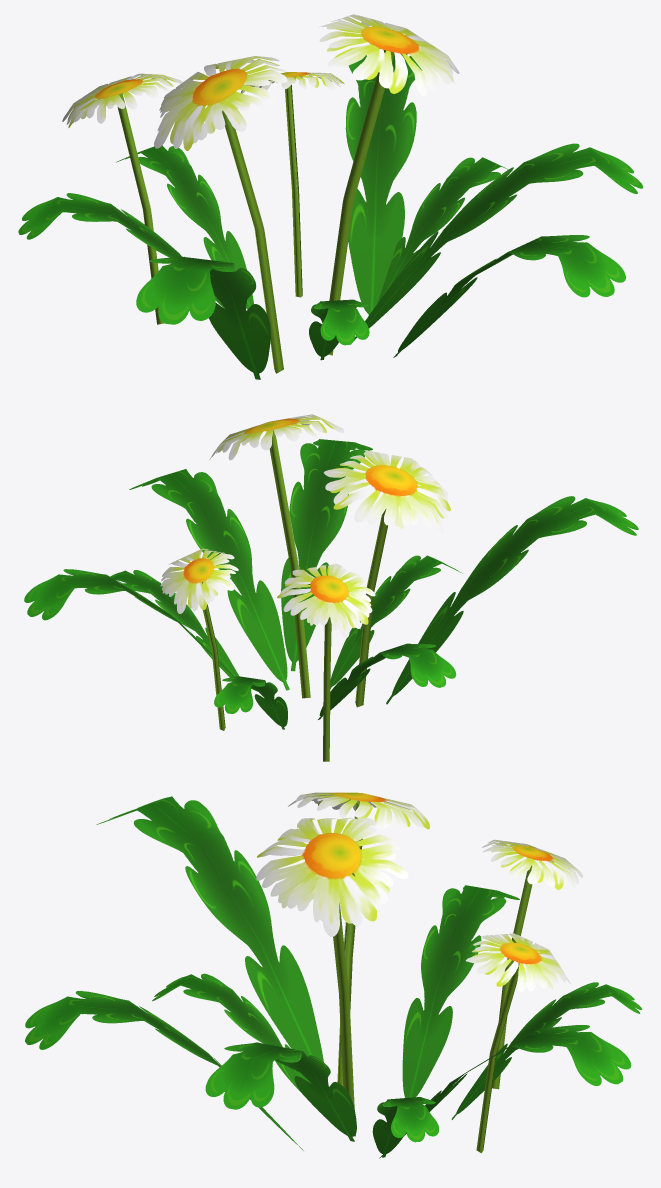
File: Flower01.FBX
3 renders of one model, top to bottom at view 1: azimuth 30°, elevation 25°; view 2: azimuth 150°, elevation 25°; view 3: azimuth 270°, elevation 25°, orthographic. The views are drawn at different scales.
Visible parts, largest first — view 1: Flower01; view 2: Flower01; view 3: Flower01.
Part boxes in pixels (x1=…): Flower01: x1=18, y1=14, x2=642, y2=379; Flower01: x1=24, y1=414, x2=638, y2=761; Flower01: x1=25, y1=792, x2=642, y2=1158.
Size of the model in its own units: 10.38 by 5.58 by 10.
